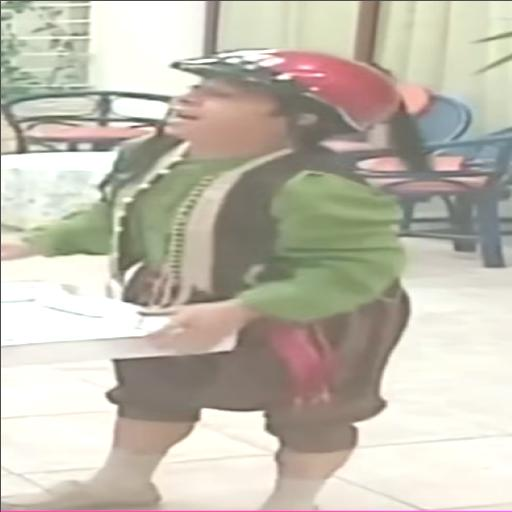fouchika: (127, 48, 405, 158)
